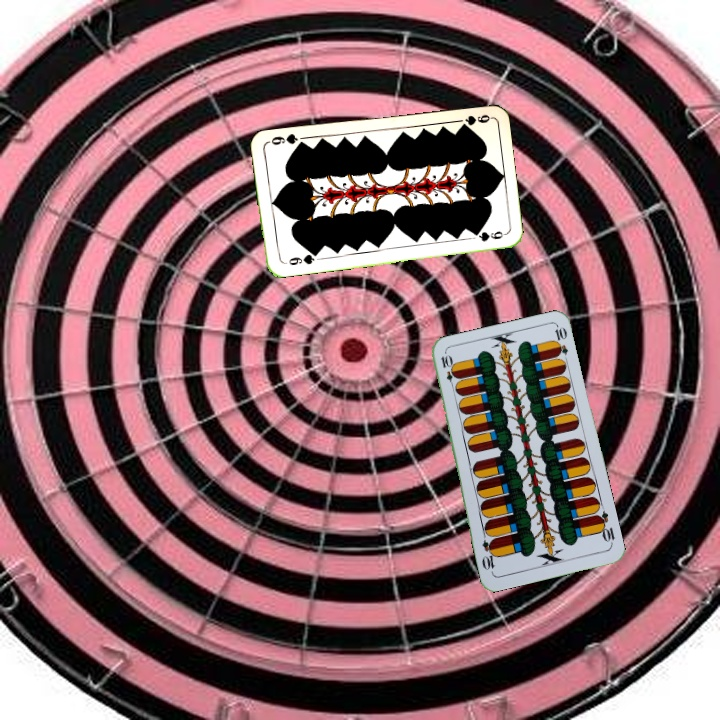E10: (592, 507, 617, 548), (437, 351, 458, 391)
G9: (280, 249, 319, 268), (457, 111, 493, 129)
